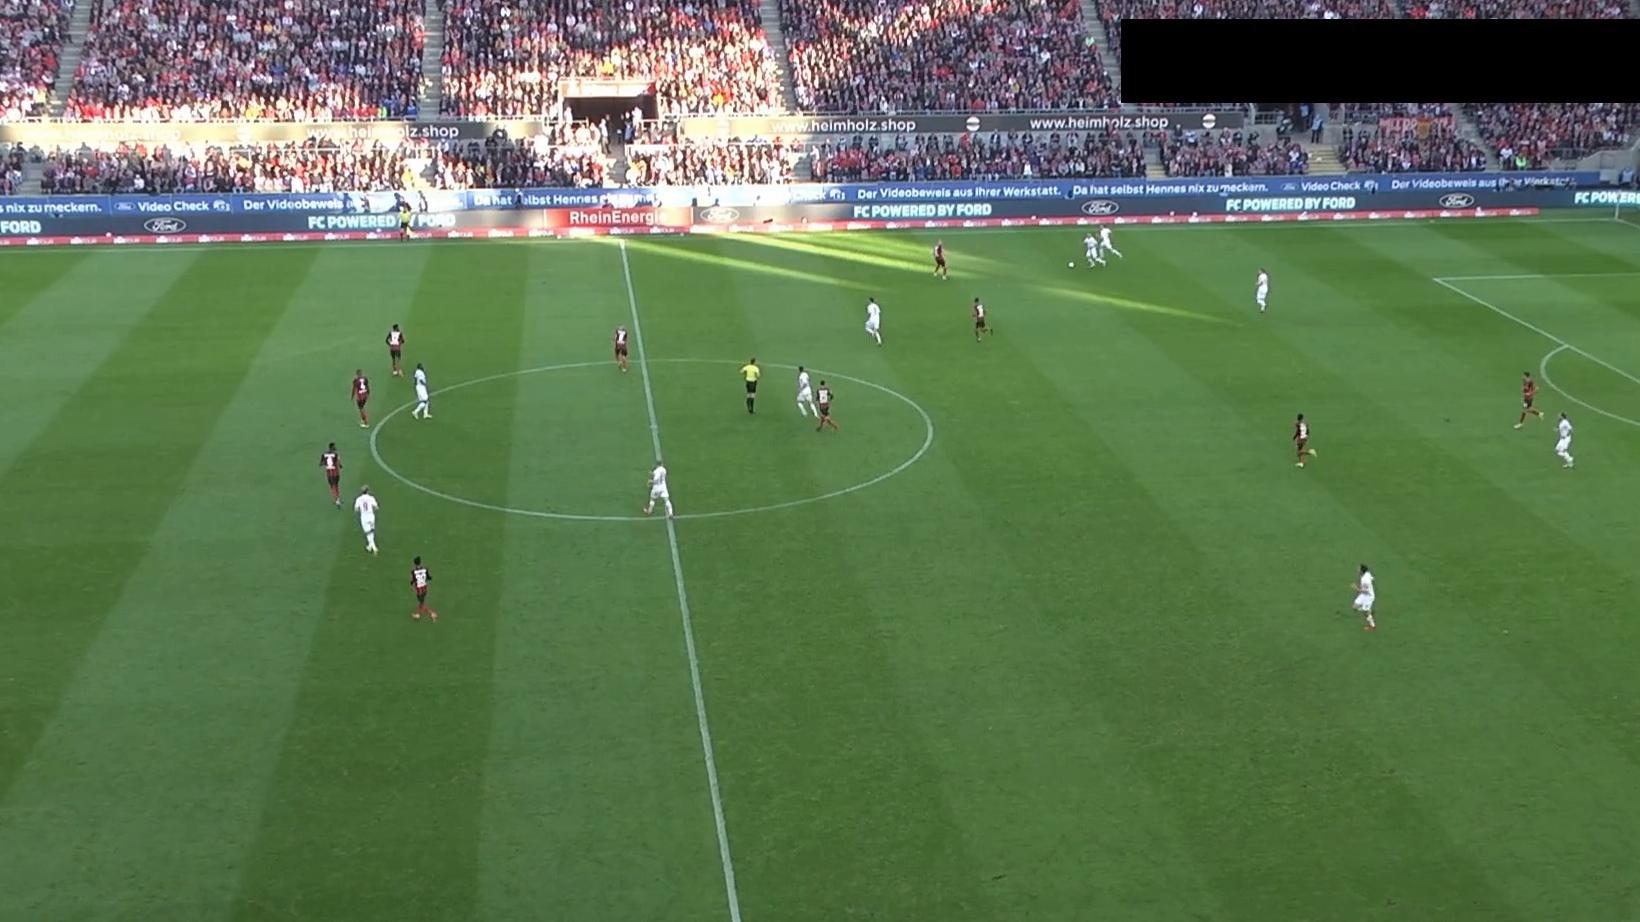ball: (1068, 260, 1076, 268)
